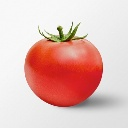tomato: (25, 35, 102, 106)
